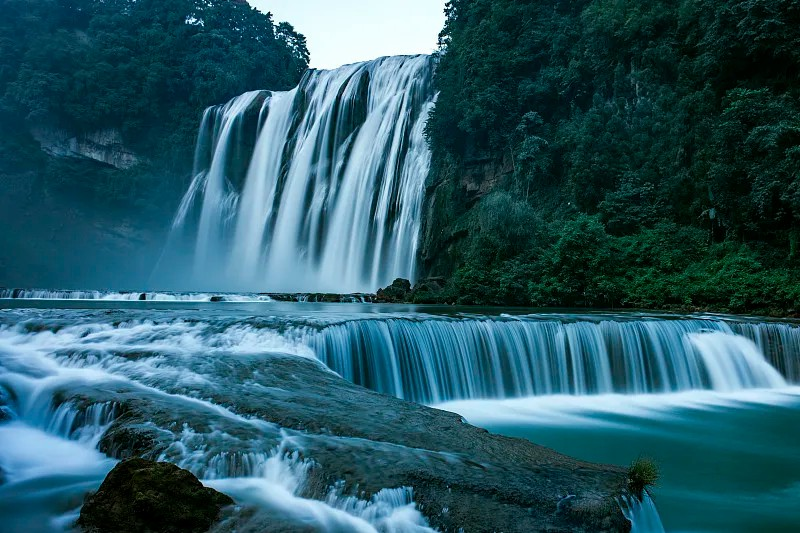Huangguoshu: (169, 52, 436, 291)
